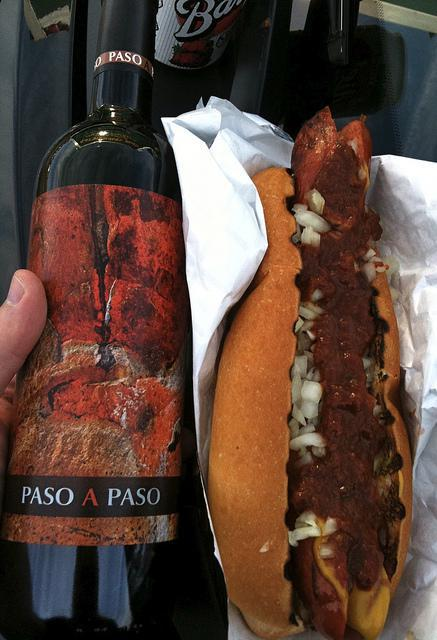hand: (0, 261, 52, 419)
